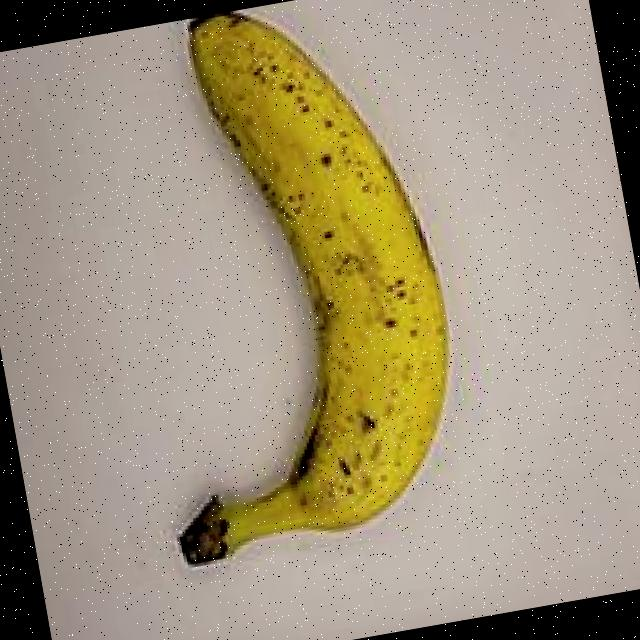Overripe: (66, 0, 544, 623)
